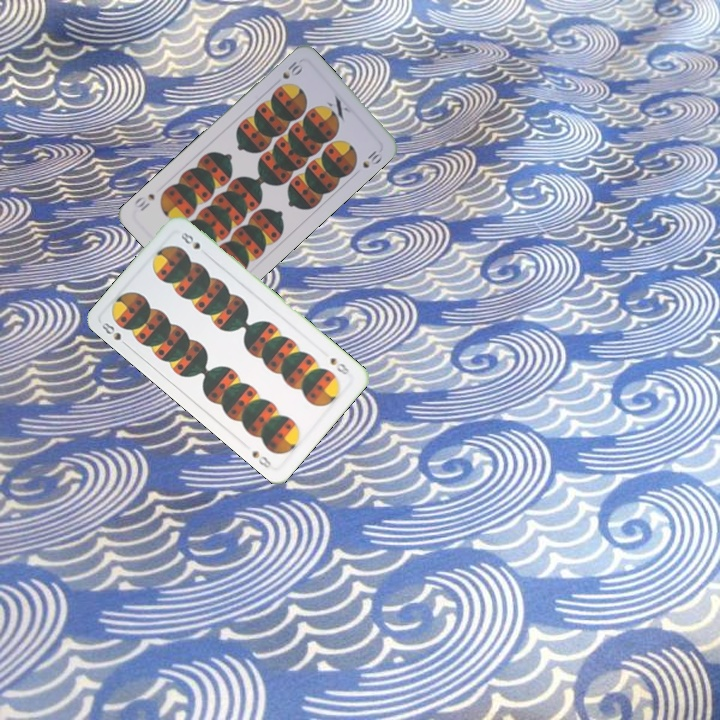S10: (278, 56, 306, 82)
S8: (98, 318, 132, 350), (326, 353, 355, 378)
